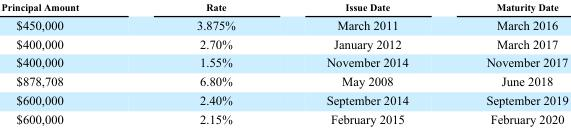table: (0, 1, 567, 126)
table column: (280, 1, 446, 126), (137, 1, 280, 126), (0, 1, 137, 126), (446, 1, 567, 126)
table column header: (0, 1, 567, 14)
table row: (0, 14, 567, 33), (0, 33, 567, 52), (0, 52, 567, 71), (0, 71, 567, 90), (0, 90, 567, 109), (0, 109, 567, 126), (0, 1, 567, 14)
